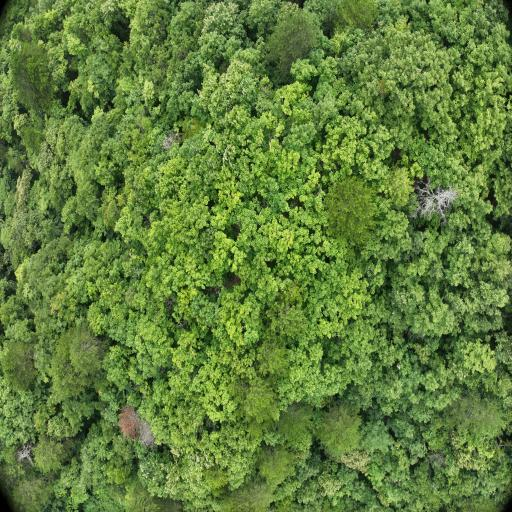dead-tree: (420, 188, 452, 214), (17, 448, 30, 458), (144, 424, 150, 444)
sick-tree: (125, 414, 136, 438)
